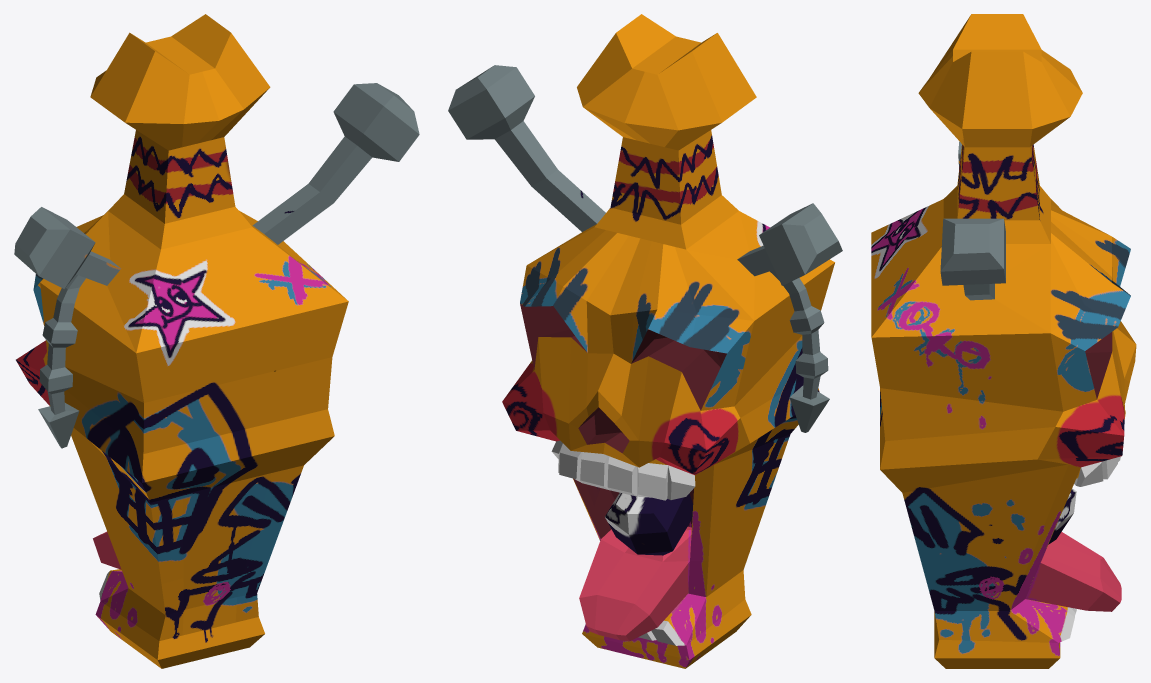
Rendered from bowling_pin_curved_piercing_static.fbx.
3 renders of one model, left to right at view 1: azimuth 30°, elevation 25°; view 2: azimuth 150°, elevation 25°; view 3: azimuth 270°, elevation 25°, orthographic.
Parts seen in each view (by area): view 1: bowling_pin_curved_piercing; view 2: bowling_pin_curved_piercing; view 3: bowling_pin_curved_piercing.
Boxes of the visible parts, x1=… form: bowling_pin_curved_piercing: x1=14, y1=14, x2=419, y2=668; bowling_pin_curved_piercing: x1=448, y1=14, x2=842, y2=668; bowling_pin_curved_piercing: x1=871, y1=14, x2=1136, y2=668.
Bounding box in the file's own units: 6.41 × 3.86 × 9.87.
1 material, 1 textured.
